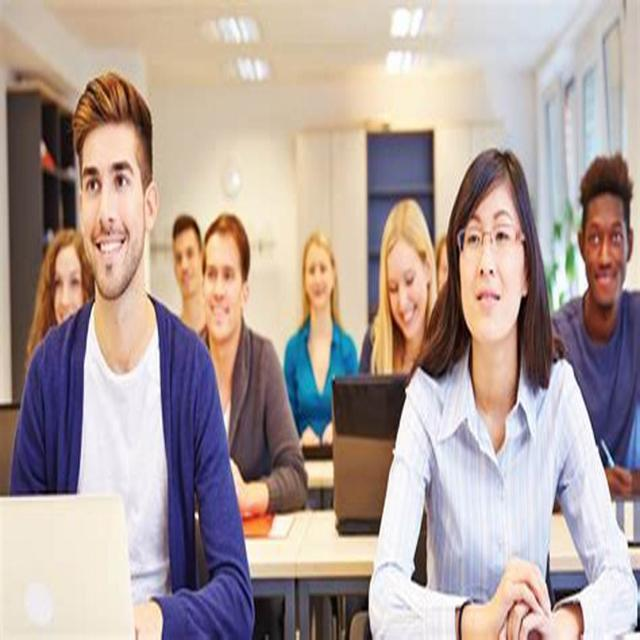Looking away: (384, 232, 427, 340)
Looking forward: (80, 125, 146, 301), (458, 176, 522, 340), (578, 196, 630, 314), (203, 226, 242, 342), (54, 245, 82, 322), (305, 239, 333, 308), (172, 229, 198, 293)
